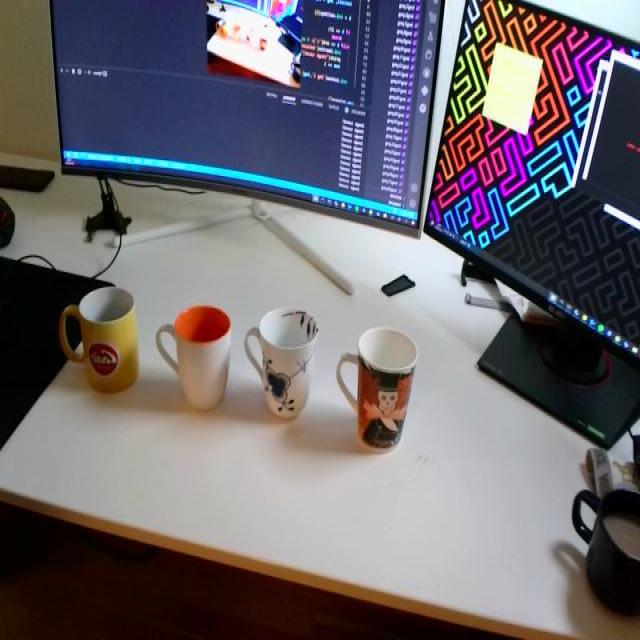cup: (333, 320, 433, 456), (56, 279, 143, 400), (243, 301, 319, 426), (156, 295, 228, 407)
